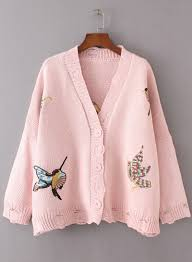C_cardigan sweater: (12, 46, 192, 238)
